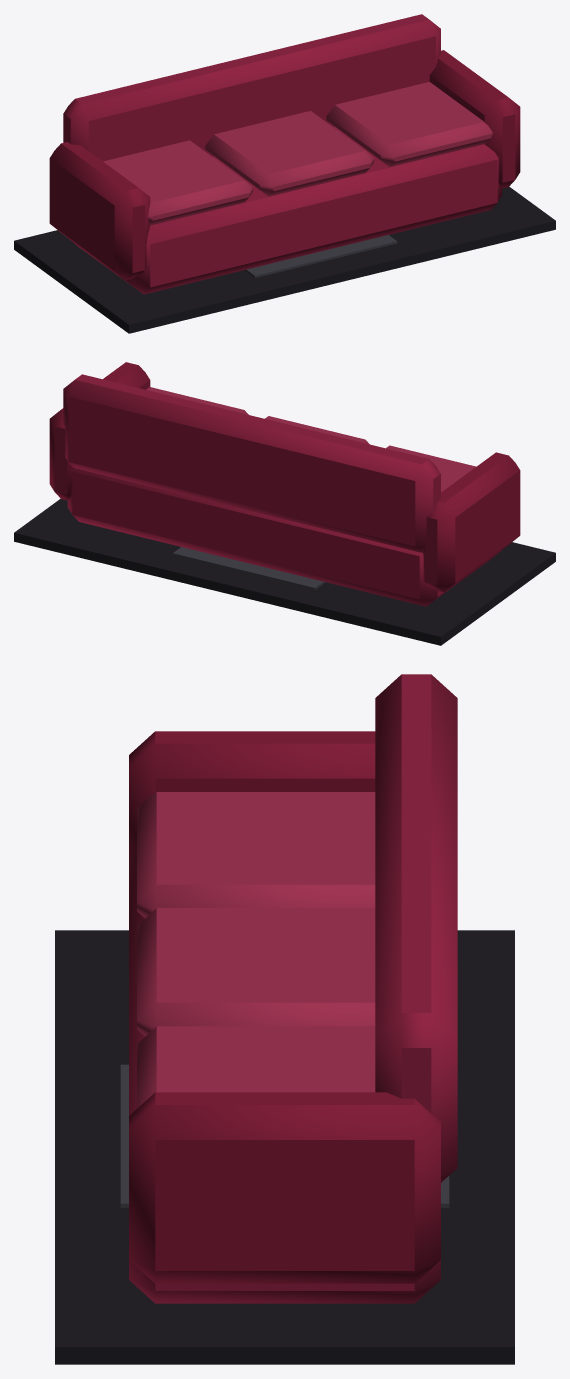
Rendered from talk_show_couch.glb.
The picture shows the model from 3 angles, top to bottom: view 1: azimuth 30°, elevation 25°; view 2: azimuth 150°, elevation 25°; view 3: azimuth 270°, elevation 25°; orthographic projection. The views are drawn at different scales.
Parts seen in each view (by area): view 1: talk_show_couch; view 2: talk_show_couch; view 3: talk_show_couch.
Part boxes in pixels (left/top/right/bottom): talk_show_couch: left=14, top=14, right=555, bottom=333; talk_show_couch: left=14, top=362, right=555, bottom=645; talk_show_couch: left=55, top=674, right=514, bottom=1364.
Bounding box in the file's own units: 3 × 1.05 × 1.4.
